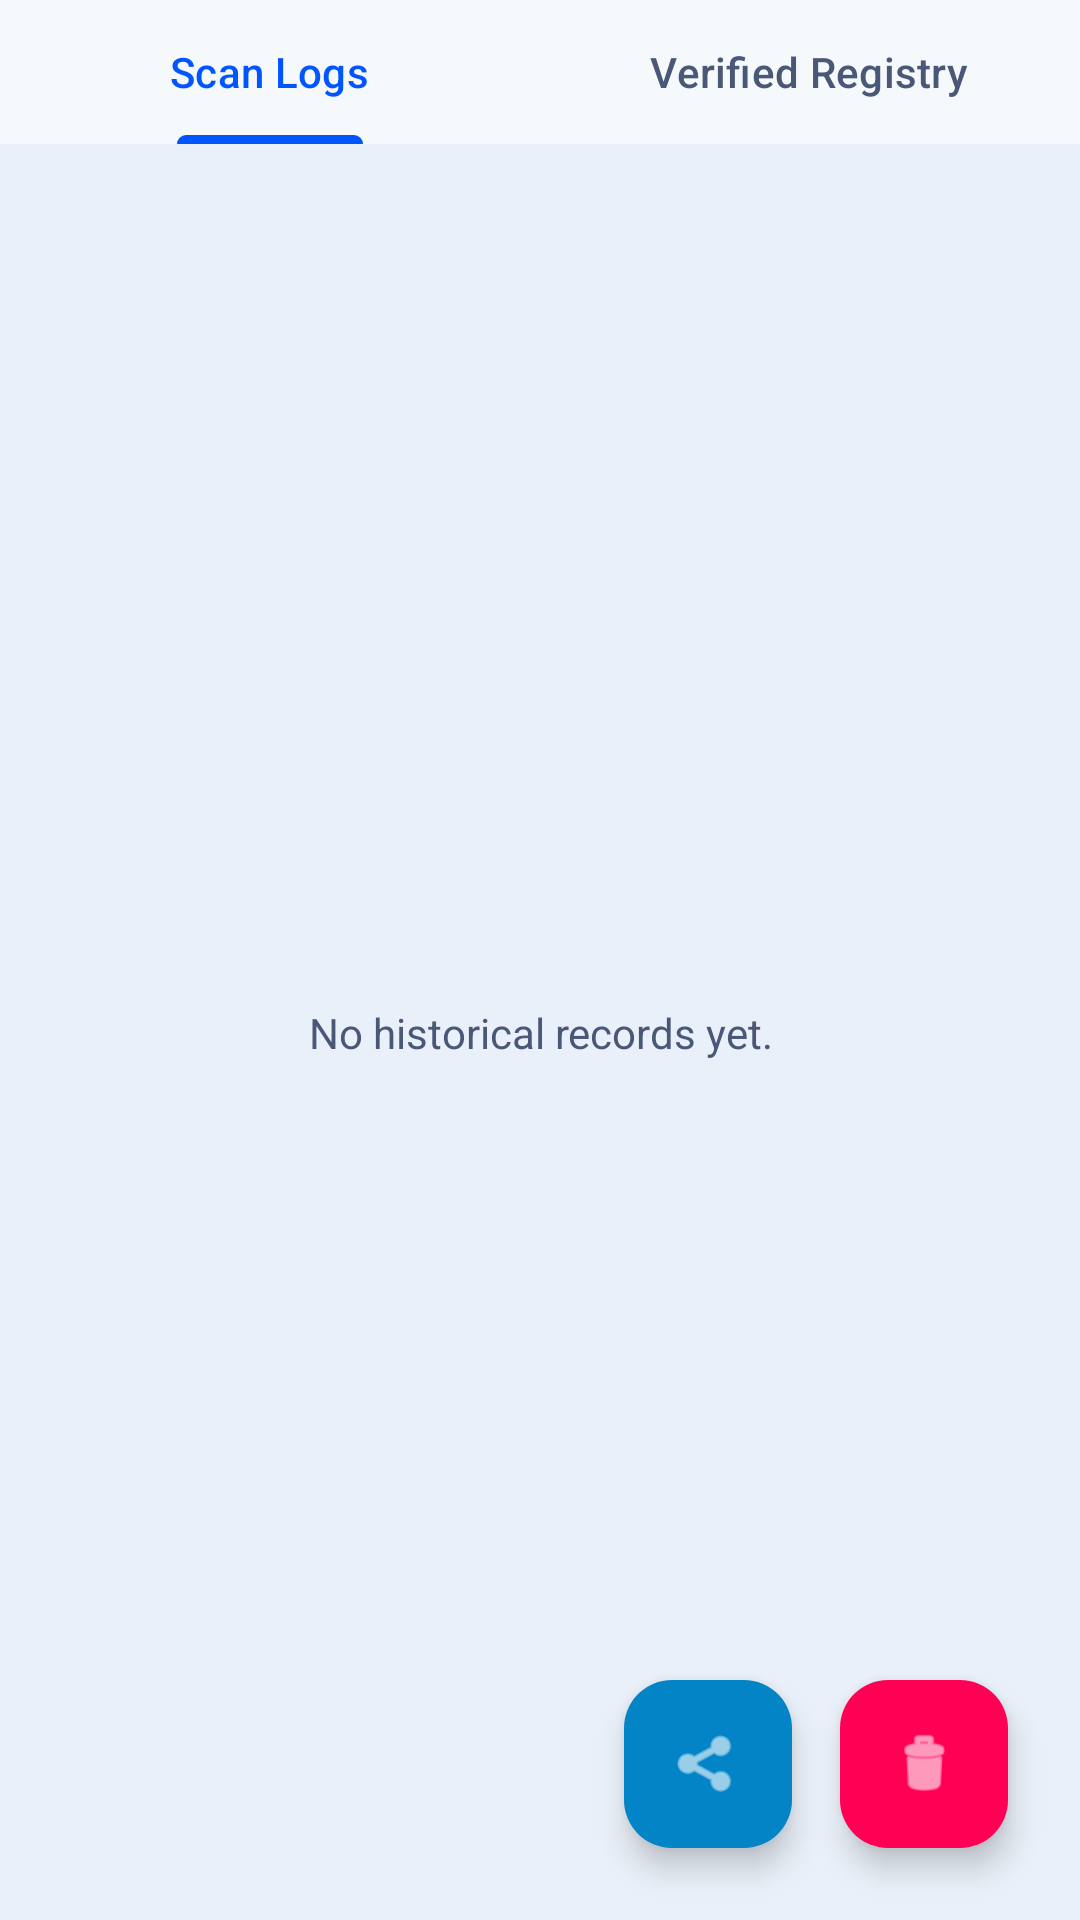

Screen size 1080 × 1920. Icon name, then its center in pixels as (x,y):
Clear Scan Logs: (924,1764)
Export Scan Logs CSV/JSON: (708,1764)
